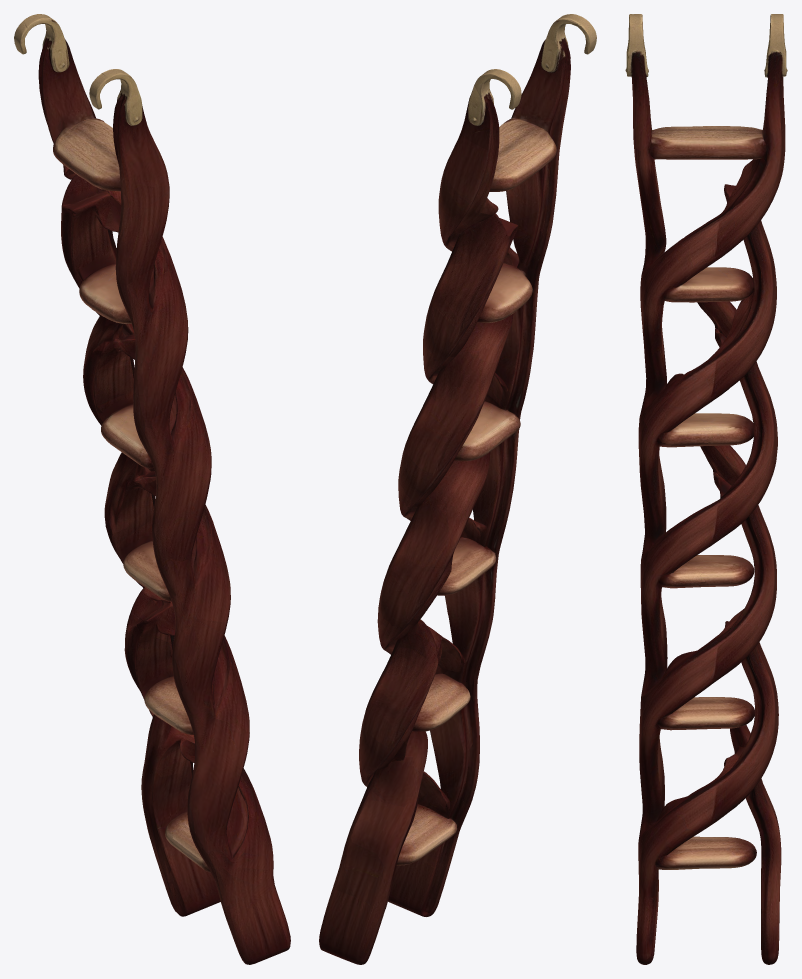
Rendered from ladder.glb.
3 renders of one model, left to right at view 1: azimuth 30°, elevation 25°; view 2: azimuth 150°, elevation 25°; view 3: azimuth 270°, elevation 25°, orthographic. The views are drawn at different scales.
Parts seen in each view (by area): view 1: Mesh_0; view 2: Mesh_0; view 3: Mesh_0.
Boxes of the visible parts, <box> form: Mesh_0: <box>14,14,290,964</box>; Mesh_0: <box>319,14,596,964</box>; Mesh_0: <box>625,14,787,964</box>.
Size of the model in its own units: 0.6066 by 2.67 by 0.4487.
1 material, 1 textured.
